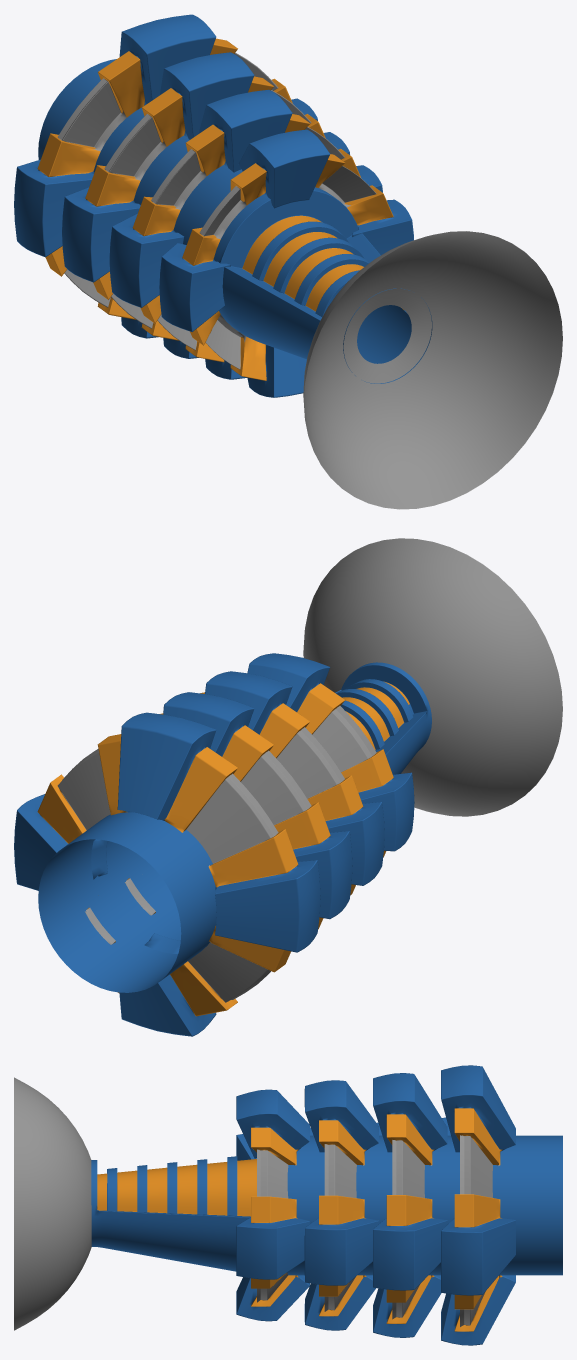
The model's file is RayGun.fbx.
3 renders of one model, top to bottom at view 1: azimuth 30°, elevation 25°; view 2: azimuth 150°, elevation 25°; view 3: azimuth 270°, elevation 25°, orthographic. The views are drawn at different scales.
Parts seen in each view (by area): view 1: Cylinder.001; view 2: Cylinder.001; view 3: Cylinder.001.
Boxes of the visible parts, left/top/right/bottom form: Cylinder.001: left=14, top=14, right=562, bottom=509; Cylinder.001: left=14, top=538, right=562, bottom=1036; Cylinder.001: left=14, top=1065, right=562, bottom=1345.
Bounding box in the file's own units: 80.74 × 80.74 × 157.
